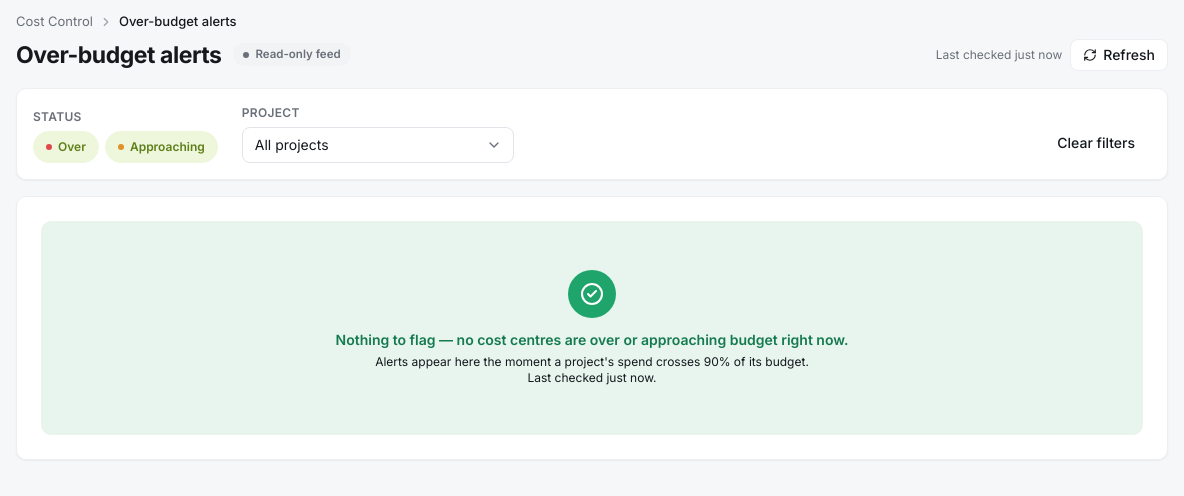
it: OverBudgetAlertsScreen — empty states (spec §6/§10) › shows the neutral filtered-empty state when a filter is applied and nothing matches
Expected: the element with test id "alerts-empty-none" is shown, [17,197,1167,459]
Click the button with test id "alerts-status-APPROACHING": (161, 147) [105,131,218,163]
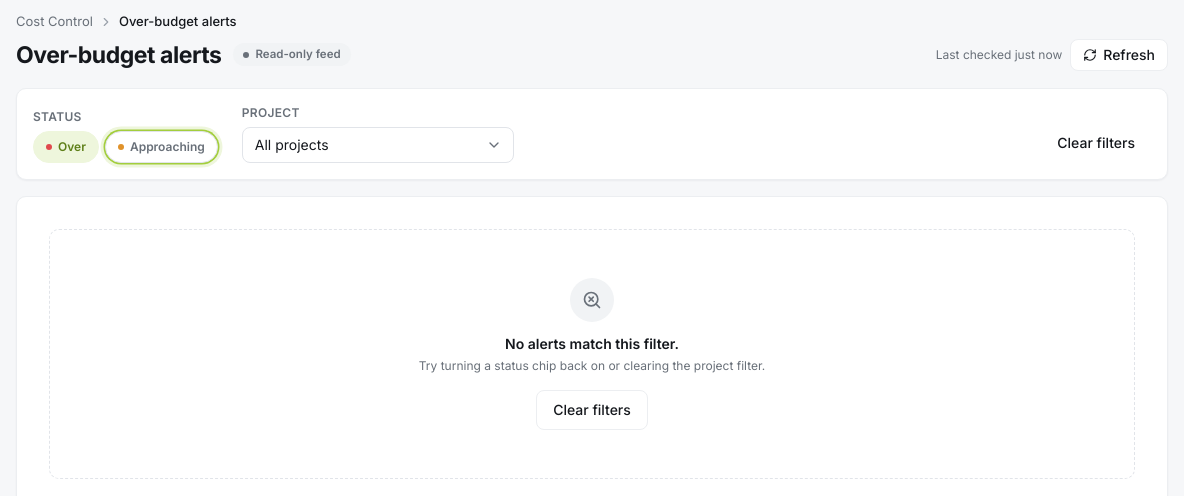
Expected: the element with test id "alerts-empty-filtered" shows "No alerts match this filter", [505,335,679,352]
